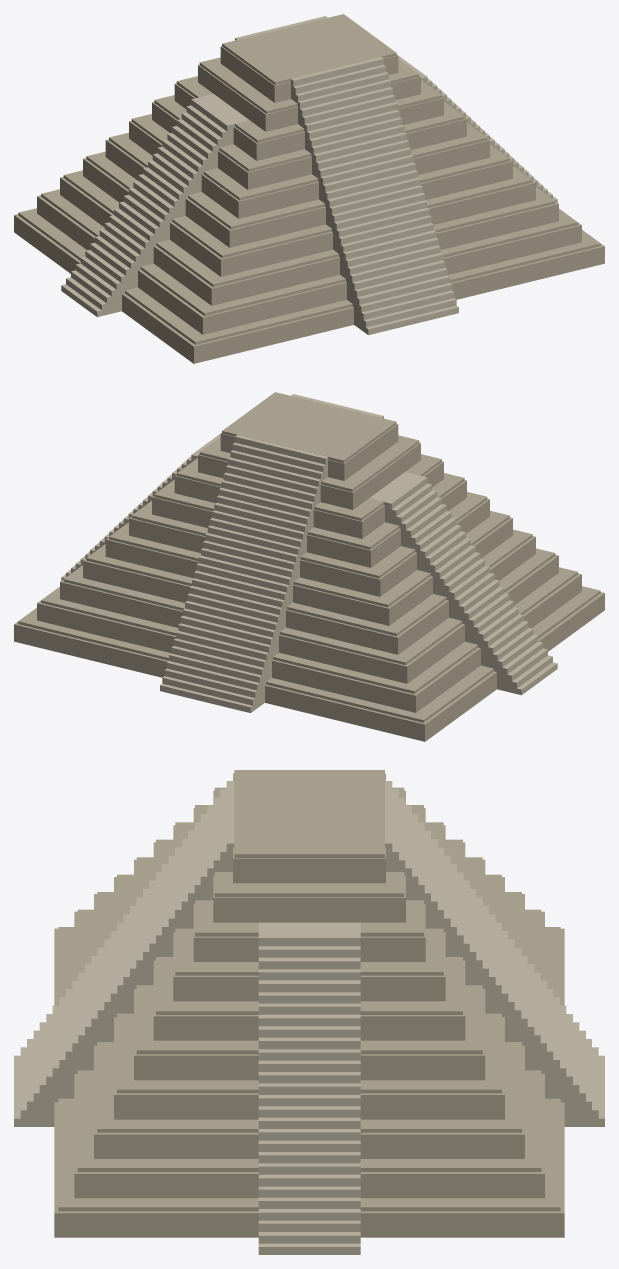
Rendered from meso-tikal-mp-ruin.glb.
3 renders of one model, top to bottom at view 1: azimuth 30°, elevation 25°; view 2: azimuth 150°, elevation 25°; view 3: azimuth 270°, elevation 25°, orthographic. The views are drawn at different scales.
Visible parts, largest first — view 1: meso-body, meso-stair; view 2: meso-body, meso-stair; view 3: meso-body, meso-stair.
Boxes of the visible parts, bbox=[...] form: meso-body: bbox=[14, 14, 604, 363]; meso-stair: bbox=[61, 16, 557, 335]; meso-body: bbox=[14, 392, 604, 741]; meso-stair: bbox=[61, 394, 557, 712]; meso-body: bbox=[54, 770, 564, 1237]; meso-stair: bbox=[14, 781, 604, 1254].
Bounding box in the file's own units: 74.8 × 31 × 58.61.
